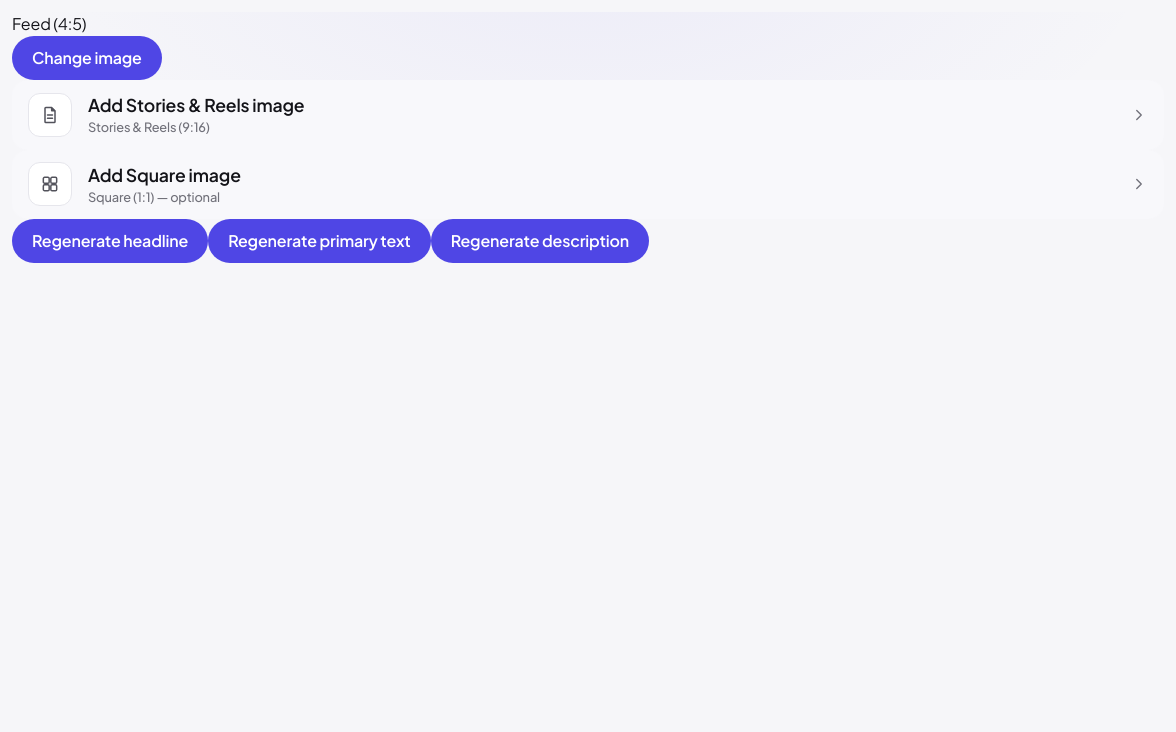
Test: CreativeEditor › falls back to generic messages for unexpected image errors
What coordinates should you click on to do the following:
click the button "Change image"
I would click on:
 (87, 58)
Its box is left=12, top=36, right=162, bottom=80.
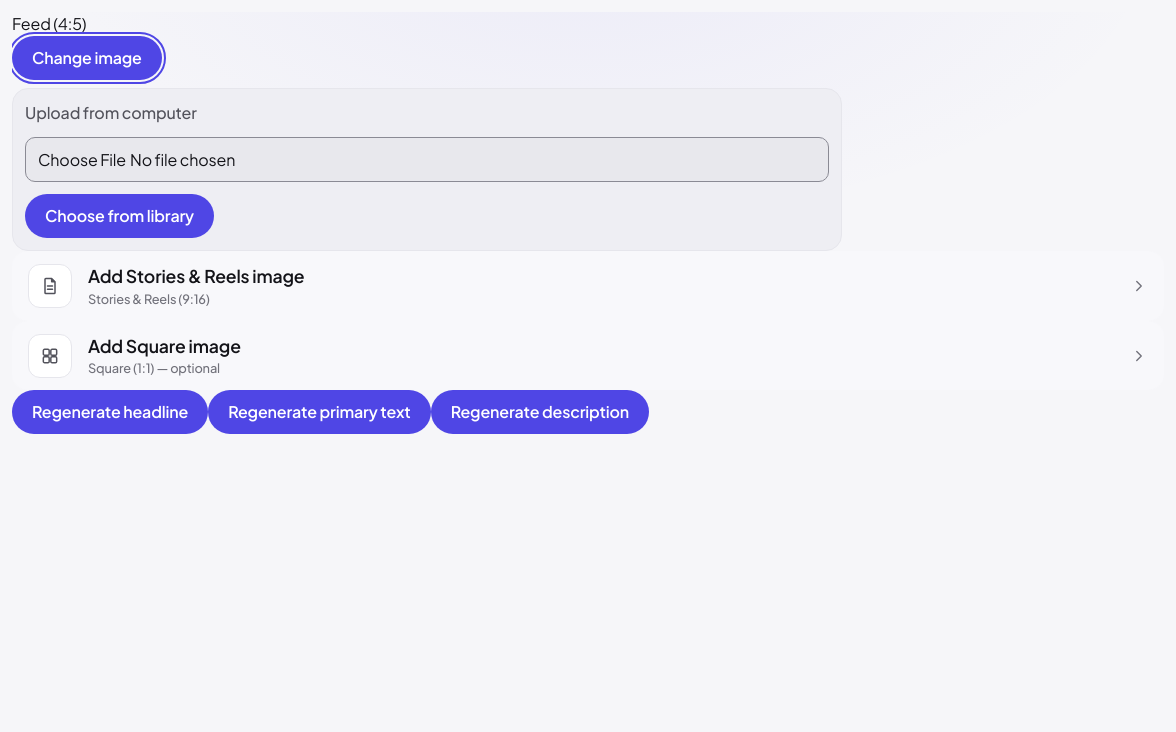
What coordinates should you click on to do the following:
click the button "Choose from library"
I would click on:
 (120, 216)
Its box is left=25, top=194, right=214, bottom=238.
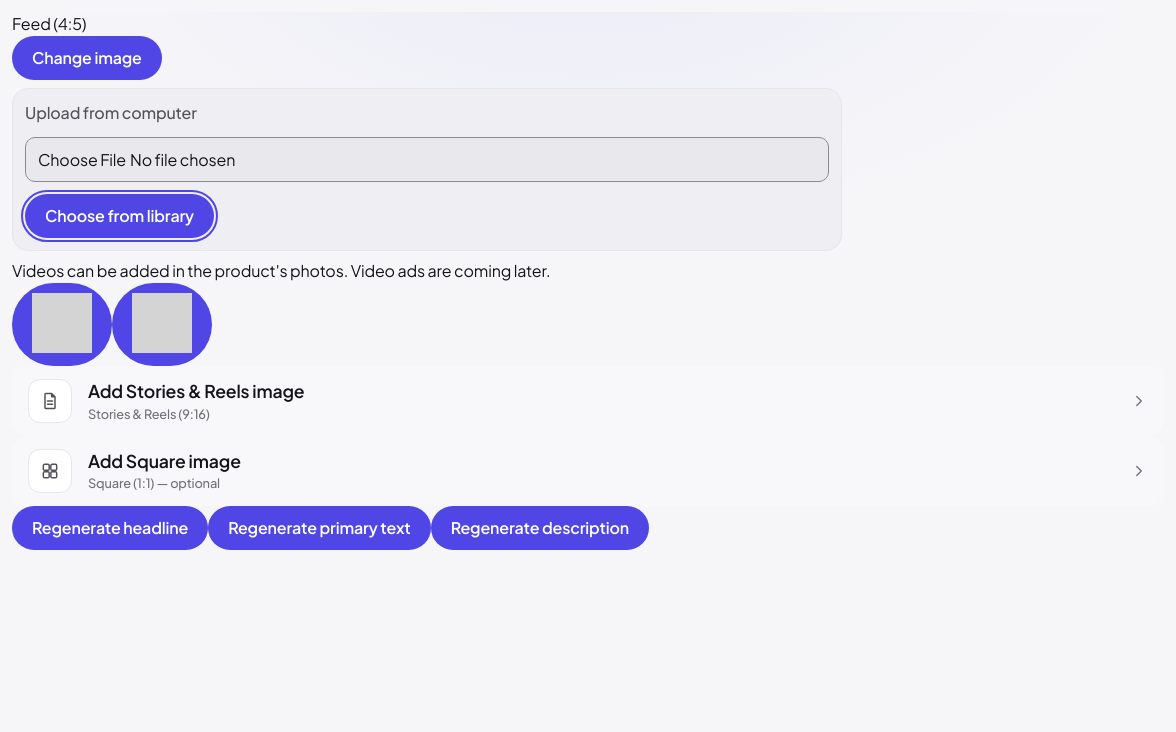
What coordinates should you click on to do the following:
click the 1st button with alt text "Product option"
I would click on:
 (62, 325)
Its box is left=12, top=283, right=112, bottom=366.
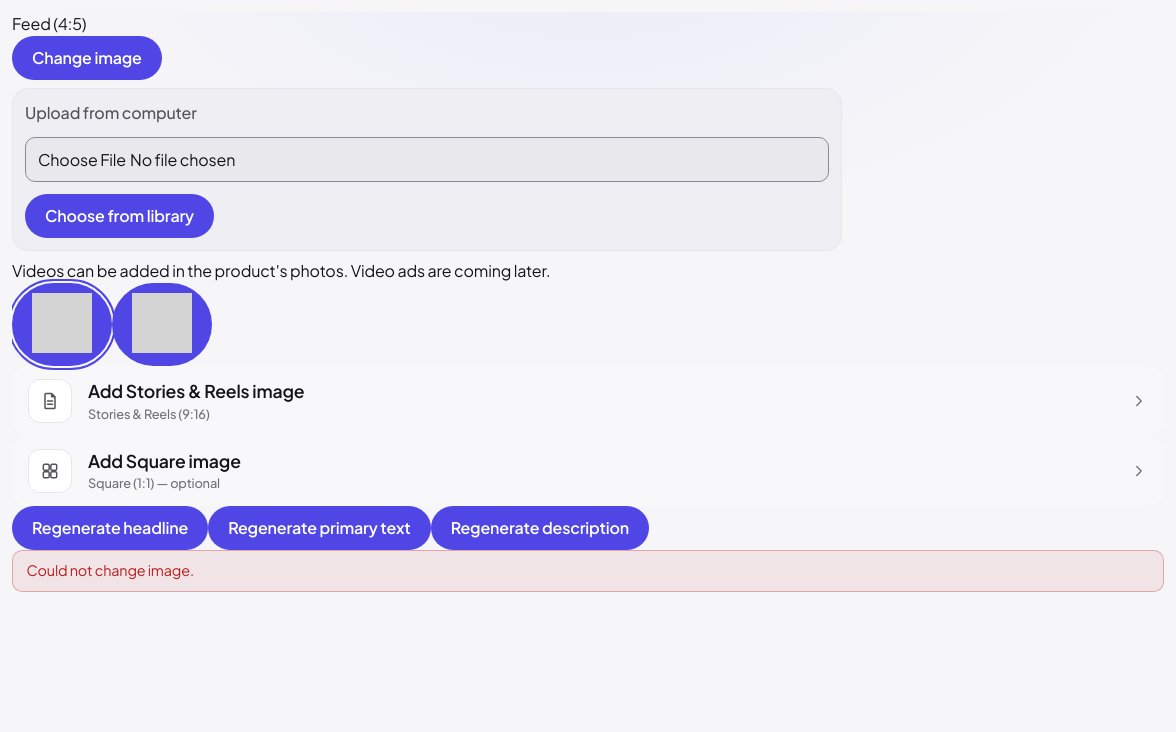
Now the message reads "Could not change image.", box left=27, top=561, right=194, bottom=579
